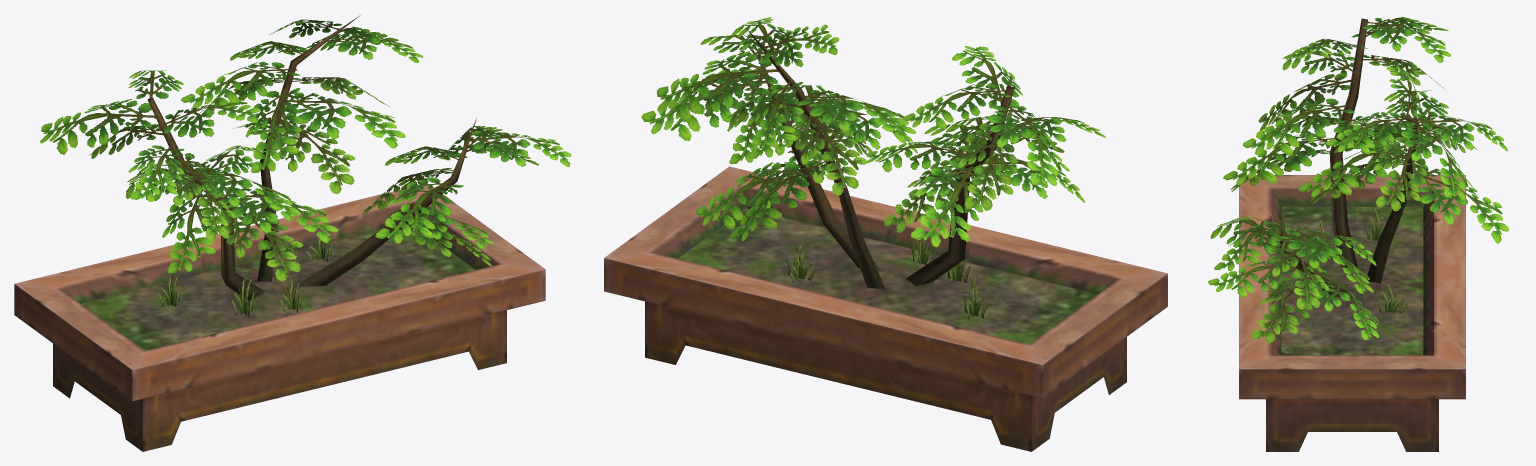
Rendered from wm_灌木盆栽03.fbx.
3 renders of one model, left to right at view 1: azimuth 30°, elevation 25°; view 2: azimuth 150°, elevation 25°; view 3: azimuth 270°, elevation 25°, orthographic. The views are drawn at different scales.
Parts seen in each view (by area): view 1: wm_灌木盆栽03; view 2: wm_灌木盆栽03; view 3: wm_灌木盆栽03.
Boxes of the visible parts, x1,y1,x2,y2 form: wm_灌木盆栽03: [14, 15, 571, 451]; wm_灌木盆栽03: [604, 17, 1167, 451]; wm_灌木盆栽03: [1208, 17, 1509, 451].
Size of the model in its own units: 270 by 189 by 174.
